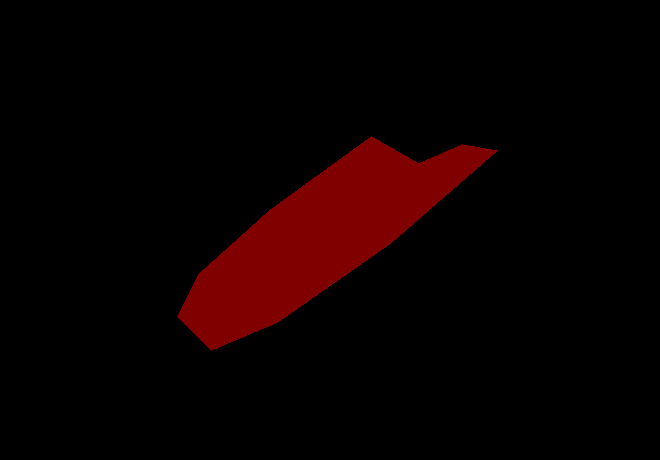fire: (177, 136, 497, 350)
